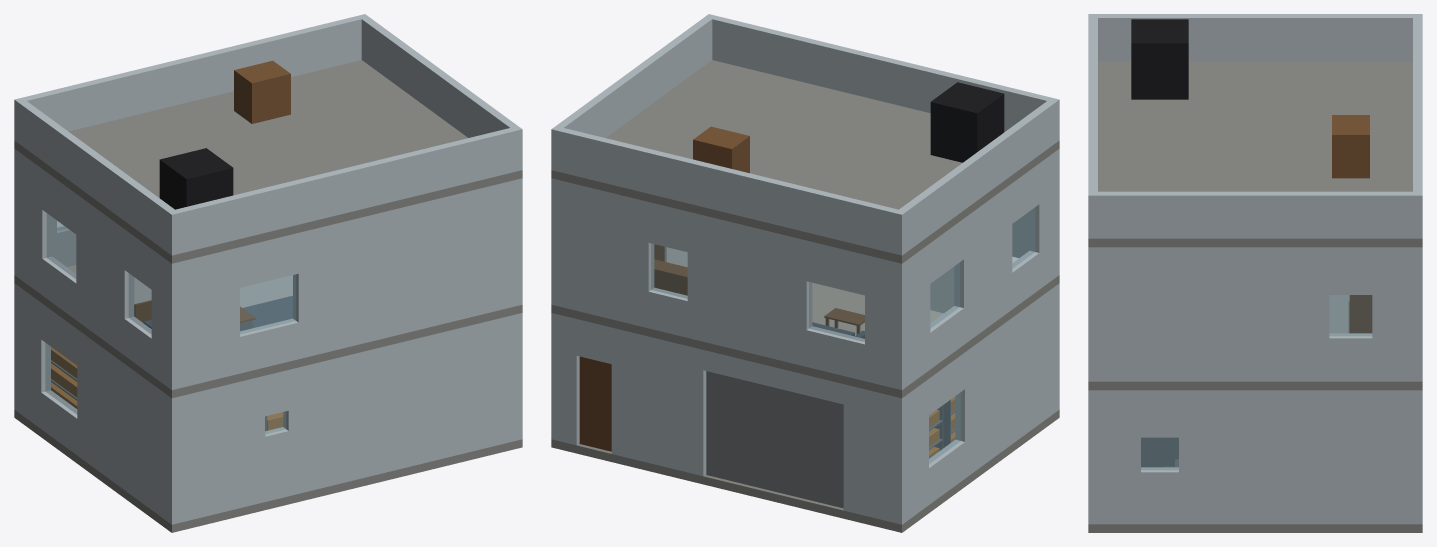
The model's file is sahyadri-pharmacy.glb.
3 renders of one model, left to right at view 1: azimuth 30°, elevation 25°; view 2: azimuth 150°, elevation 25°; view 3: azimuth 270°, elevation 25°, orthographic. The views are drawn at different scales.
Parts seen in each view (by area): view 1: wall_ext_south_f0_seg4, roof_slab, wall_ext_south_f1_seg4, roof_parapet_s, roof_parapet_n, wall_ext_south_f0_seg0, wall_ext_west_f0_seg4, wall_ext_south_f1_seg0, roof_parapet_w, wall_ext_west_f1_seg4, roof_parapet_e, slab_f0 (+25 smaller); view 2: roof_slab, roof_parapet_n, wall_ext_north_f1_seg4, door_f0_pharmacy_front_leaf, wall_ext_north_f1_seg8, roof_parapet_s, wall_ext_north_f0_seg3, wall_ext_west_f0_seg4, wall_ext_north_f0_seg0, roof_parapet_w, wall_ext_west_f1_seg4, roof_parapet_e (+32 smaller); view 3: roof_slab, wall_ext_east_f0_seg0, wall_ext_east_f1_seg4, roof_parapet_e, roof_parapet_w, wall_ext_east_f0_seg4, wall_ext_east_f1_seg0, roof_water_tank_tank, slab_f1, slab_f0, roof_ac_unit_body, roof_parapet_n (+14 smaller).
Boxes of the visible parts, x1,y1,x2,y2 form: wall_ext_south_f0_seg4: [283, 313, 522, 495]; roof_slab: [14, 60, 522, 263]; wall_ext_south_f1_seg4: [293, 178, 522, 358]; roof_parapet_s: [167, 126, 522, 255]; roof_parapet_n: [14, 14, 368, 143]; wall_ext_south_f0_seg0: [166, 375, 265, 524]; wall_ext_west_f0_seg4: [77, 329, 166, 520]; wall_ext_south_f1_seg0: [166, 247, 239, 389]; roof_parapet_w: [19, 101, 174, 251]; wall_ext_west_f1_seg4: [76, 194, 134, 355]; roof_parapet_e: [361, 17, 517, 137]; slab_f0: [14, 410, 522, 532]; roof_slab: [551, 60, 1059, 263]; roof_parapet_n: [551, 126, 906, 255]; wall_ext_north_f1_seg4: [687, 211, 812, 366]; door_f0_pharmacy_front_leaf: [706, 371, 843, 508]; wall_ext_north_f1_seg8: [551, 178, 654, 328]; roof_parapet_s: [705, 14, 1059, 143]; wall_ext_north_f0_seg3: [611, 327, 706, 476]; wall_ext_west_f0_seg4: [955, 287, 1053, 478]; wall_ext_north_f0_seg0: [843, 384, 907, 524]; roof_parapet_w: [899, 101, 1054, 251]; wall_ext_west_f1_seg4: [954, 183, 1012, 344]; roof_parapet_e: [556, 17, 712, 137]; roof_slab: [1088, 61, 1422, 247]; wall_ext_east_f0_seg0: [1179, 390, 1410, 524]; wall_ext_east_f1_seg4: [1100, 247, 1329, 381]; roof_parapet_e: [1098, 191, 1412, 238]; roof_parapet_w: [1098, 14, 1412, 61]; wall_ext_east_f0_seg4: [1100, 390, 1140, 524]; wall_ext_east_f1_seg0: [1372, 247, 1410, 381]; roof_water_tank_tank: [1131, 19, 1188, 99]; slab_f1: [1088, 381, 1422, 390]; slab_f0: [1088, 524, 1422, 532]; roof_ac_unit_body: [1332, 115, 1369, 178]; roof_parapet_n: [1413, 14, 1422, 238].
Bounding box in the file's own units: 9 × 8.1 × 7.
